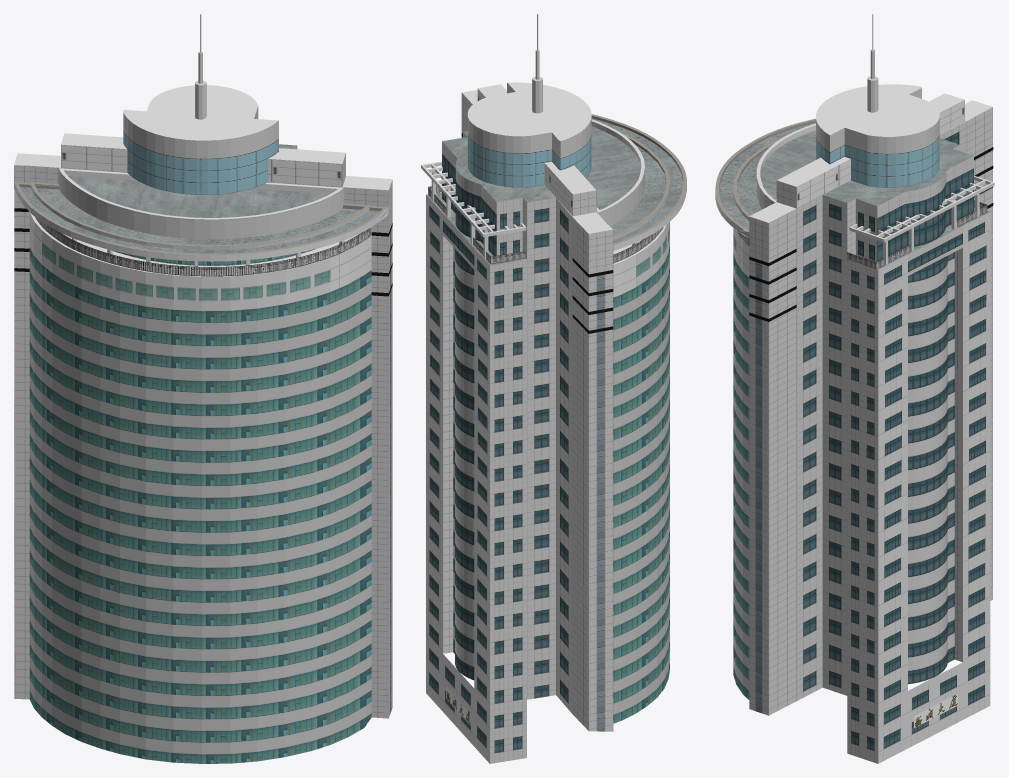
File: xincheng.gltf
The picture shows the model from 3 angles, left to right: view 1: azimuth 30°, elevation 25°; view 2: azimuth 150°, elevation 25°; view 3: azimuth 270°, elevation 25°; orthographic projection. The views are drawn at different scales.
Visible parts, largest first — view 1: _3030201008JZ00230; view 2: _3030201008JZ00230; view 3: _3030201008JZ00230.
Part boxes in pixels (left/top/right/bottom): _3030201008JZ00230: left=14, top=14, right=392, bottom=763; _3030201008JZ00230: left=421, top=14, right=686, bottom=763; _3030201008JZ00230: left=715, top=14, right=994, bottom=763.
Bounding box in the file's own units: 42.65 × 107 × 39.
Materials: 22 (22 with a texture image).
